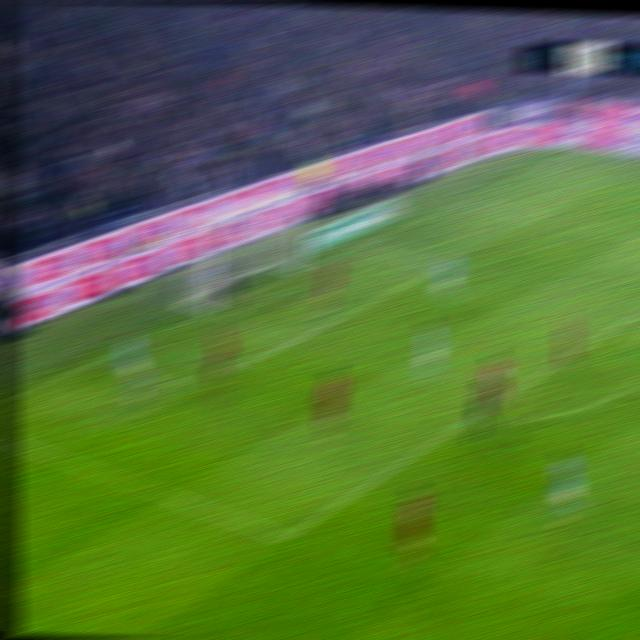bigarea_bottom_inner: (275, 524, 301, 549)
bigarea_top_outter: (449, 196, 469, 204)
corner: (559, 151, 581, 157)
smallarea_bottom_inner: (220, 362, 245, 377)
smallarea_bottom_outter: (131, 338, 152, 348)
smallarea_top_inner: (429, 261, 450, 274)
smallarea_top_outter: (349, 242, 369, 250)
top_arc_area_intersection: (611, 315, 633, 329)
